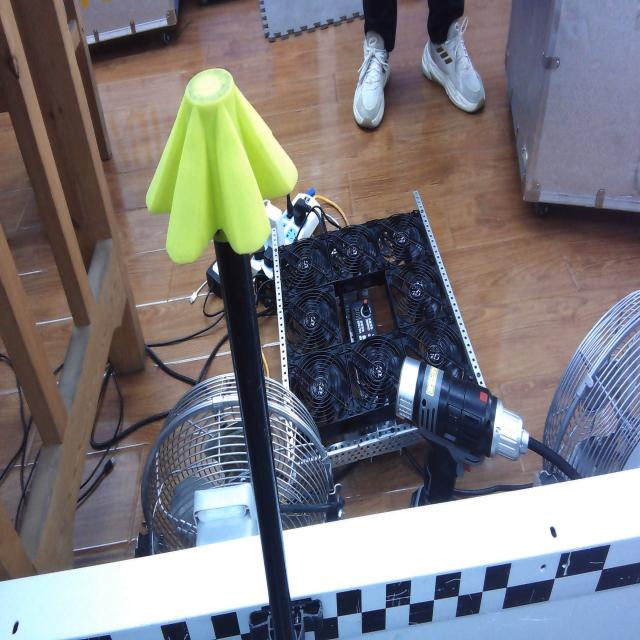Yellow-Stake-Head: (144, 64, 303, 258)
